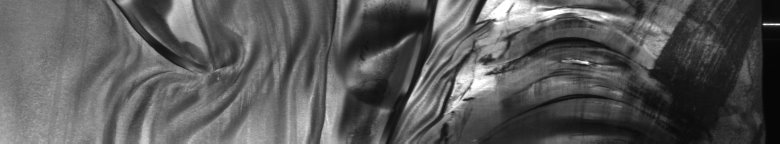ke: (112, 4, 725, 136)
